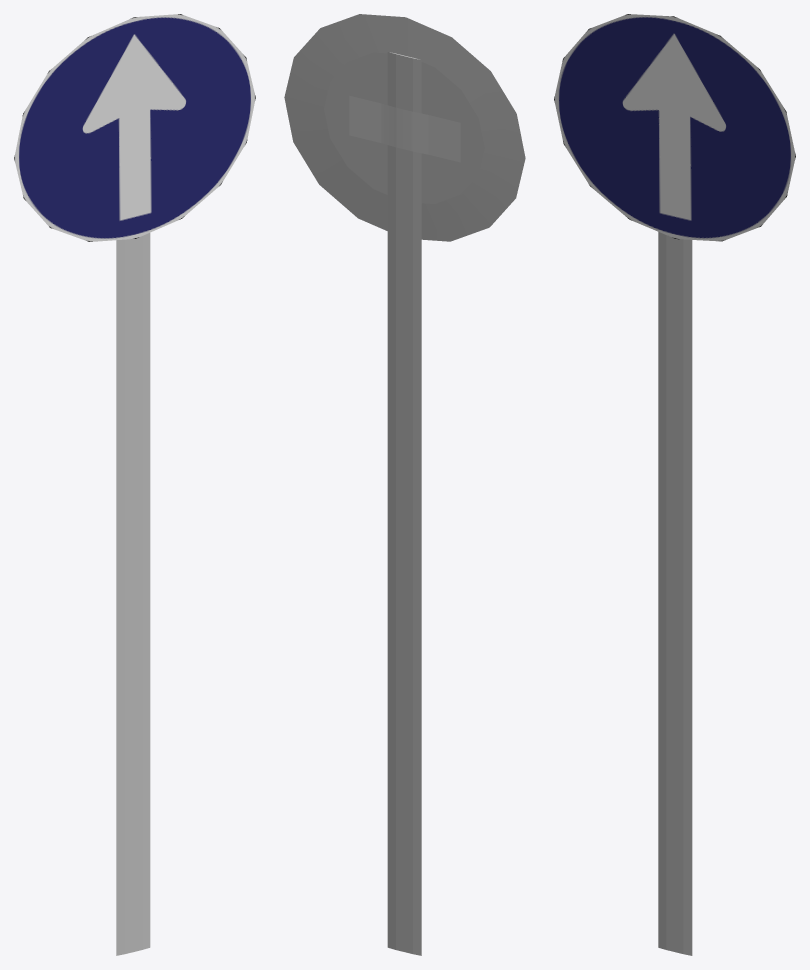
File: ileri.dae
3 views of the same model, side by side, from view 1: azimuth 30°, elevation 25°; view 2: azimuth 150°, elevation 25°; view 3: azimuth 330°, elevation 25° (orthographic).
Visible parts, largest first — view 1: Sign_Circle.005; view 2: Sign_Circle.005; view 3: Sign_Circle.005.
Boxes of the visible parts, left/top/right/bottom form: Sign_Circle.005: left=14, top=14, right=255, bottom=955; Sign_Circle.005: left=284, top=14, right=525, bottom=955; Sign_Circle.005: left=554, top=14, right=795, bottom=955.
Bounding box in the file's own units: 0.6355 × 0.00621 × 2.35.
Materials: 3 (1 with a texture image).
